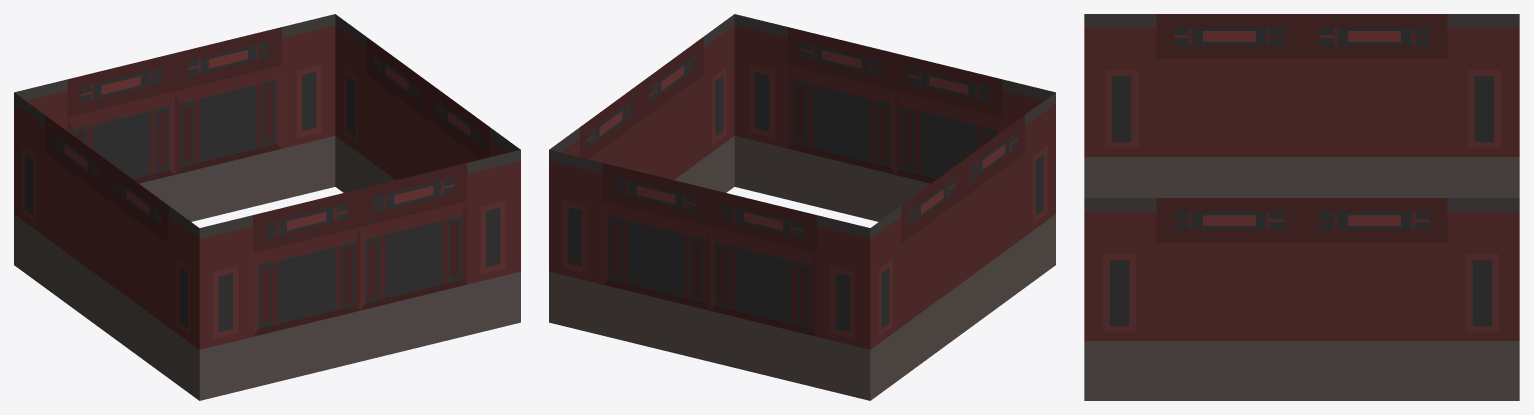
File: StackA-Sm_BLOD1.fbx
3 views of the same model, side by side, from view 1: azimuth 30°, elevation 25°; view 2: azimuth 150°, elevation 25°; view 3: azimuth 270°, elevation 25° (orthographic). The views are drawn at different scales.
Parts seen in each view (by area): view 1: StackA-Sm_BLOD1; view 2: StackA-Sm_BLOD1; view 3: StackA-Sm_BLOD1.
Part boxes in pixels (x1,y1,x2,y2): StackA-Sm_BLOD1: [14, 14, 520, 400]; StackA-Sm_BLOD1: [549, 14, 1055, 400]; StackA-Sm_BLOD1: [1084, 14, 1519, 400].
Bounding box in the file's own units: 750 × 386 × 750.
